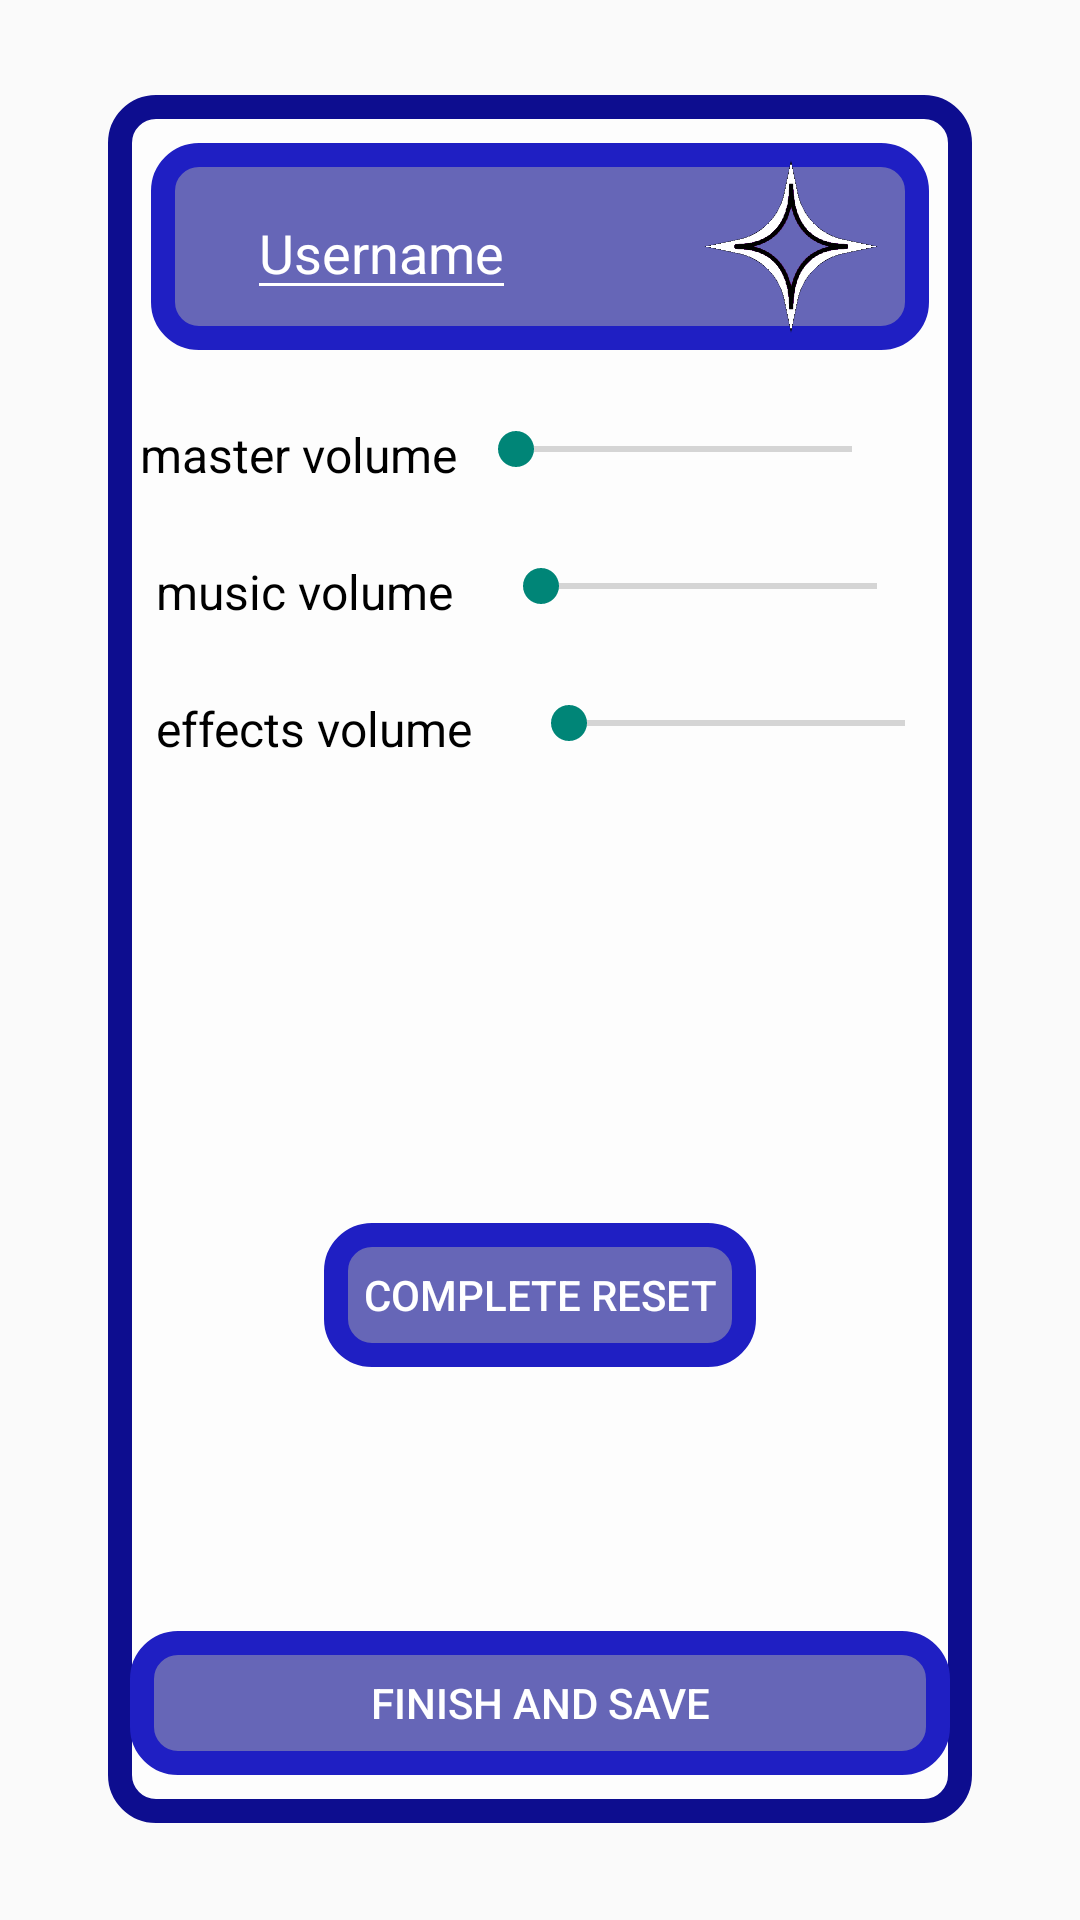

Where to tap for icons on this 1080×1920 app screen, as [x,y]:
starico: [791,246]
